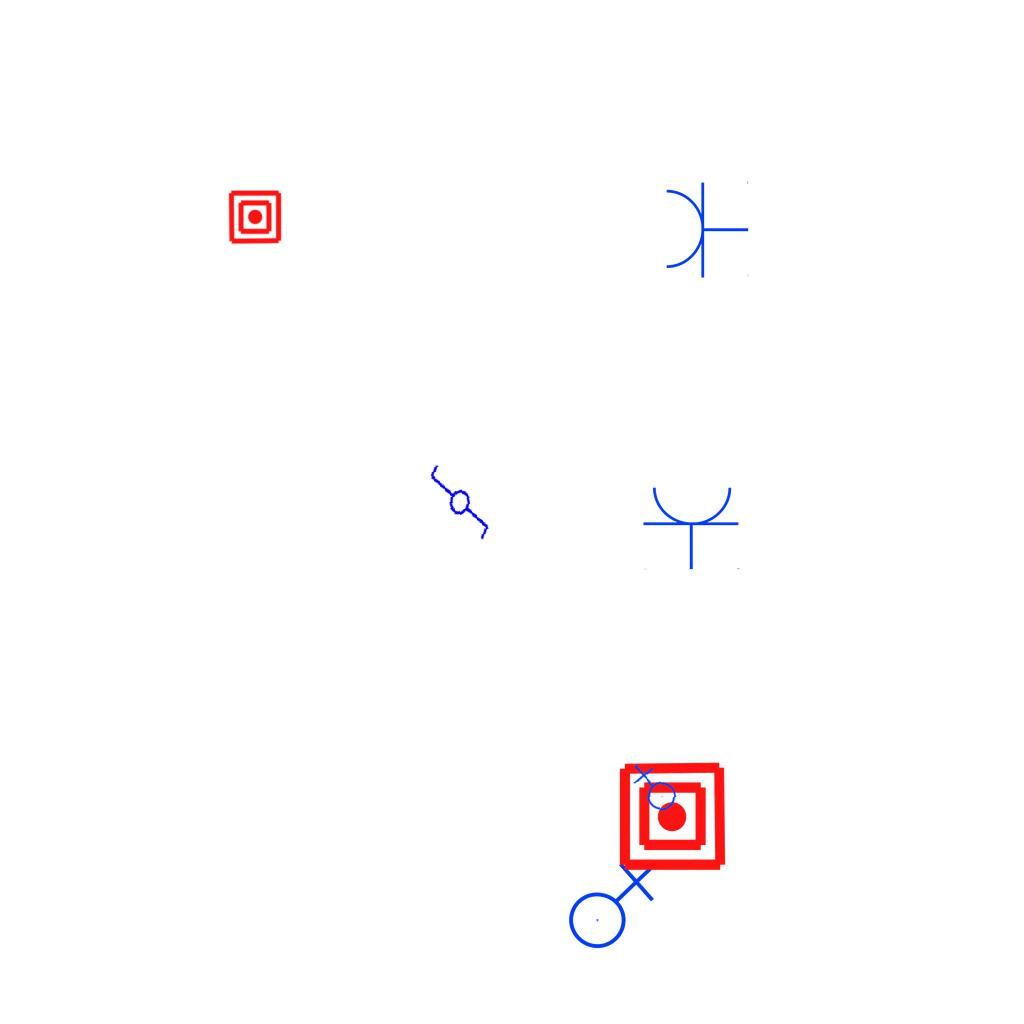Elektroanschluss_allgemein_230V_Geraeteanschlussdose_230V: (560, 856, 659, 950), (628, 763, 679, 816)
NAM-Nichtautomatischer_Melder: (616, 760, 729, 873), (227, 189, 283, 245)
Schukosteckdose_einfach: (642, 483, 742, 570), (662, 179, 749, 279)
Wechselschalter: (415, 461, 501, 551)
